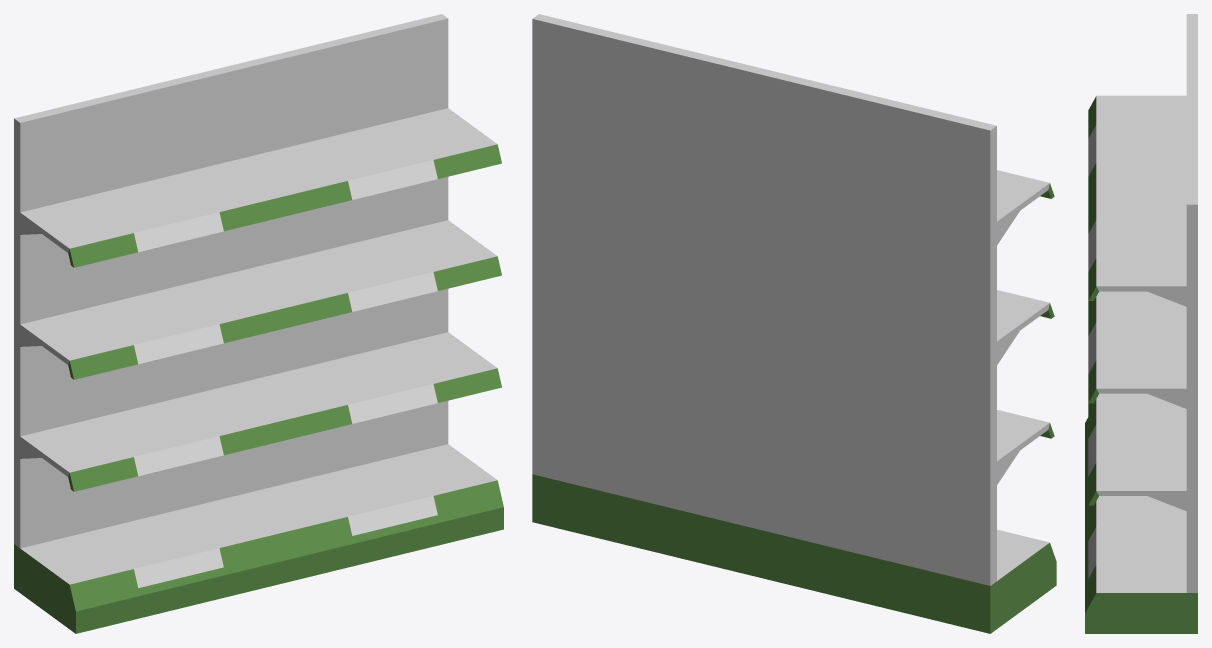
The model's file is ShelvingUnit02.fbx.
3 views of the same model, side by side, from view 1: azimuth 30°, elevation 25°; view 2: azimuth 150°, elevation 25°; view 3: azimuth 270°, elevation 25° (orthographic). The views are drawn at different scales.
Parts seen in each view (by area): view 1: ShelvingUnit02; view 2: ShelvingUnit02; view 3: ShelvingUnit02.
Part boxes in pixels (box(x1,y1,x2,y2)): ShelvingUnit02: box(14, 14, 503, 633); ShelvingUnit02: box(532, 14, 1056, 633); ShelvingUnit02: box(1085, 14, 1197, 633).
Size of the model in its own units: 2 by 2.1 by 0.5.
